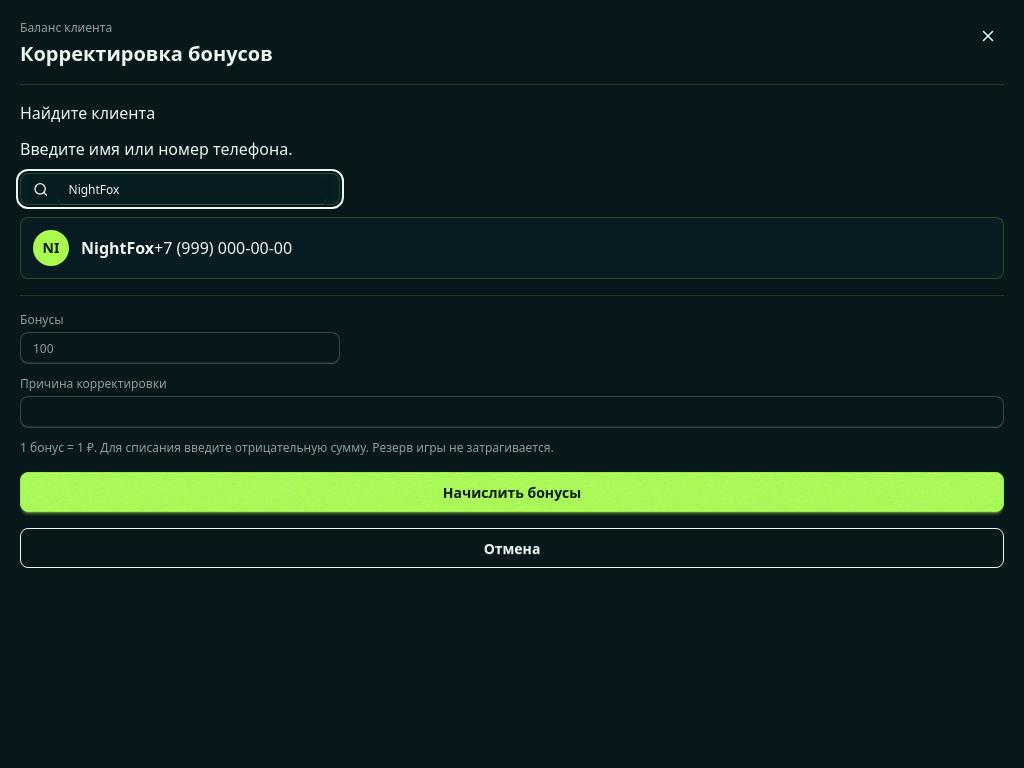
Точная корректировка бонусов › начисляет сотые бонуса с причиной без кассы и изменения денежного баланса
Replace the text in the field named "Количество бонусов" with "0,55" at [180, 348], box [20,332,340,364]
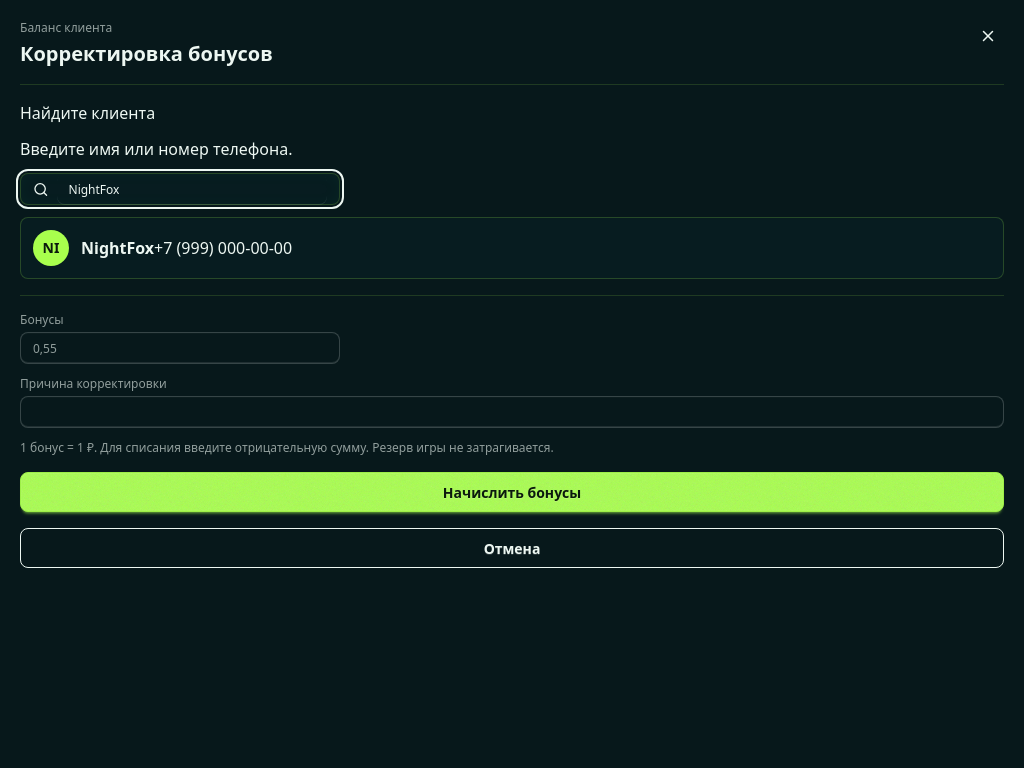
Type "Подарок клиенту" into the field labelled "Причина корректировки" at [512, 412], box [20,396,1004,428]
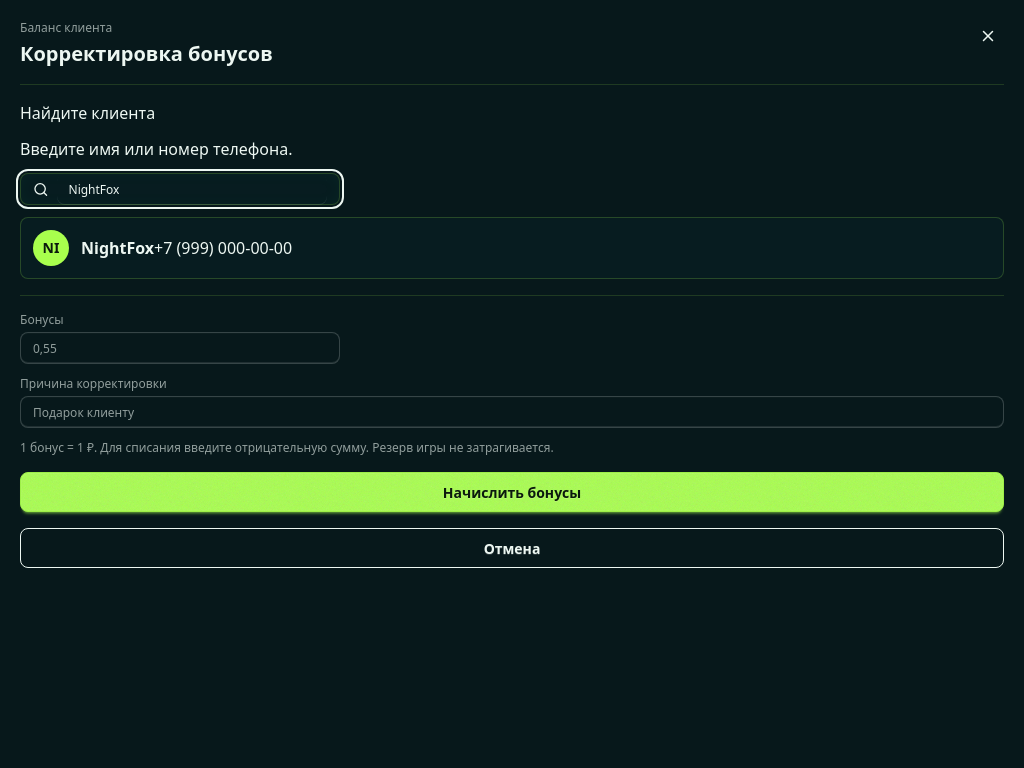
Click the button "Начислить бонусы" at [512, 492], box [20,472,1004,512]
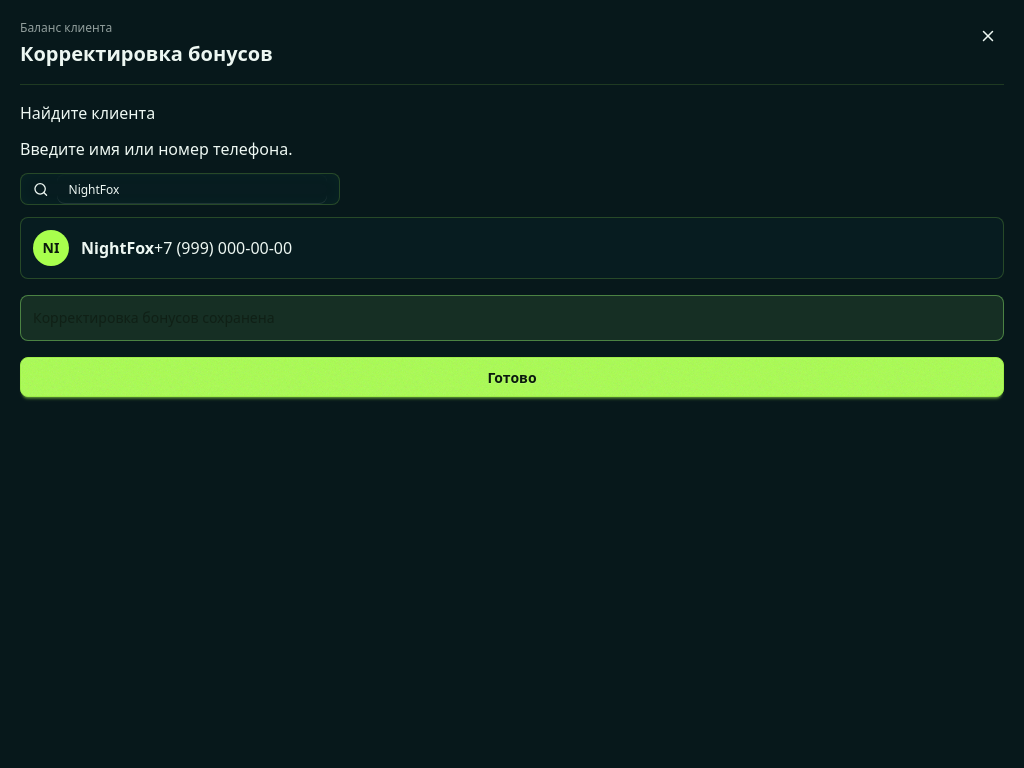
Result: the text "Корректировка бонусов сохранена" is shown at [20,295,1004,341]
